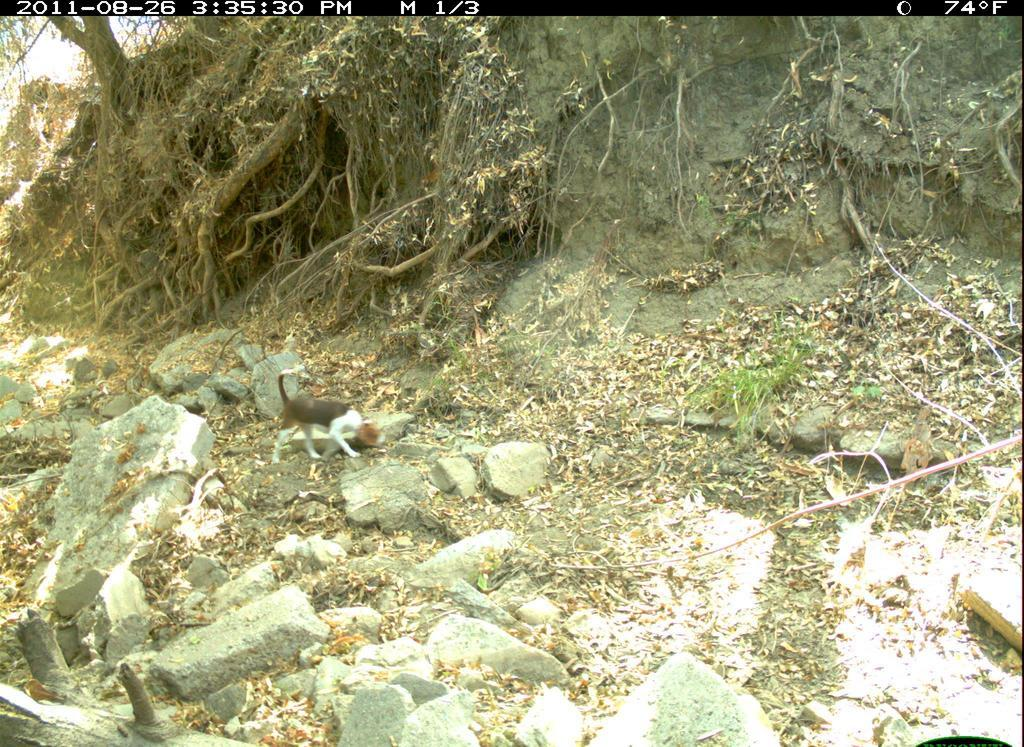dog: (259, 355, 393, 475)
